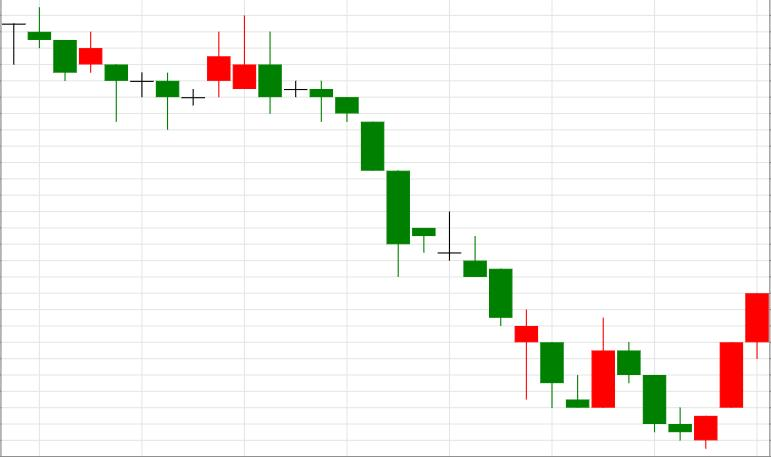bullish_engulfing_rise: (412, 211, 614, 408)
three_white_soldiers_rise: (618, 292, 769, 449)
